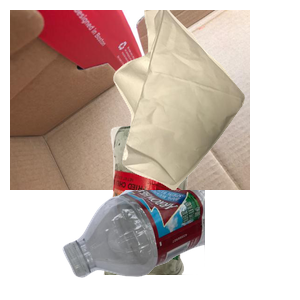cardboard: (10, 10, 250, 190)
glass: (98, 120, 286, 300)
plastic: (60, 190, 300, 280)
trash: (111, 10, 300, 190)
